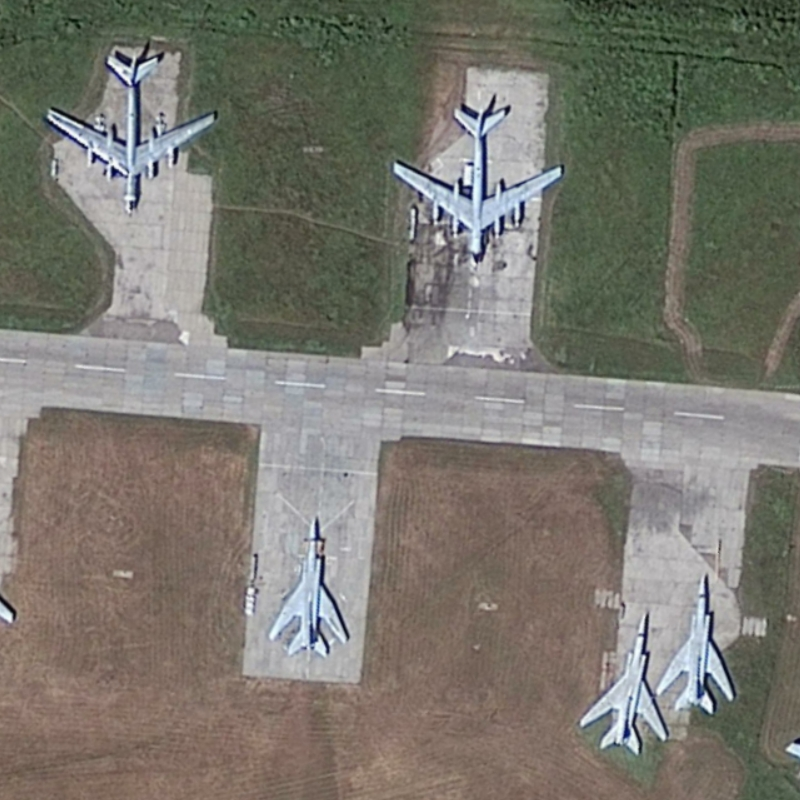A12: (576, 611, 671, 757), (652, 571, 737, 718), (266, 515, 351, 660)
A17: (42, 51, 216, 218), (390, 104, 565, 268)
